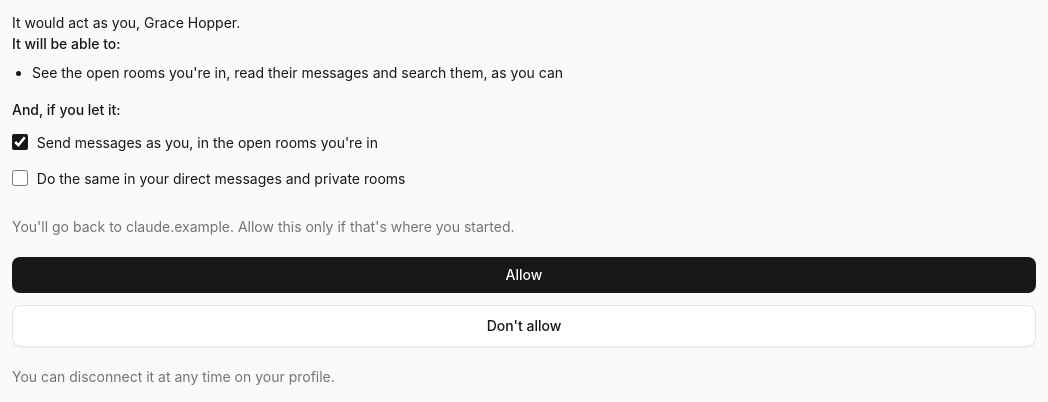
Test case: The page that asks whether to connect an AI app › lets an app into your direct messages and private rooms once you tick their box, and out again once you clear it
Click the checkbox labelled "Do the same in your direct messages and private rooms" at (20, 178), box [12,170,28,186]
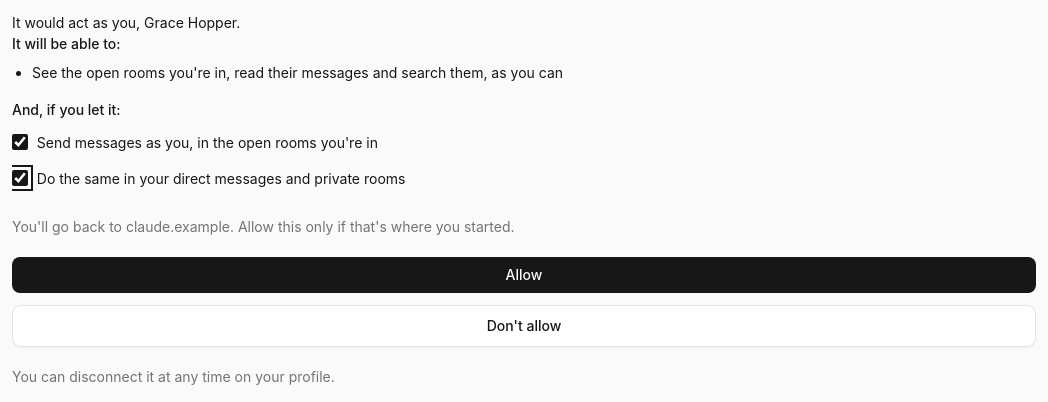
Expected: the checkbox labelled "Do the same in your direct messages and private rooms" is checked, [12,170,28,186]
Click the checkbox labelled "Send messages as you, in the open rooms you're in" at (20, 142), box [12,134,28,150]
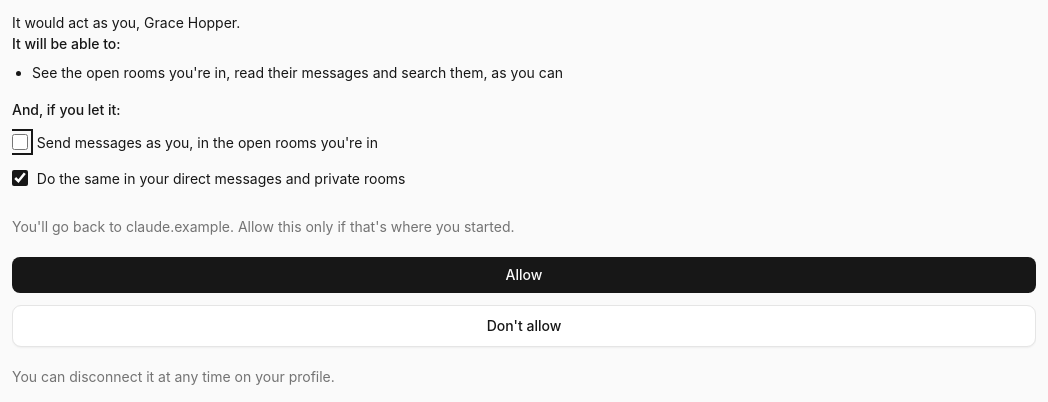
Click the checkbox labelled "Do the same in your direct messages and private rooms" at (20, 178), box [12,170,28,186]
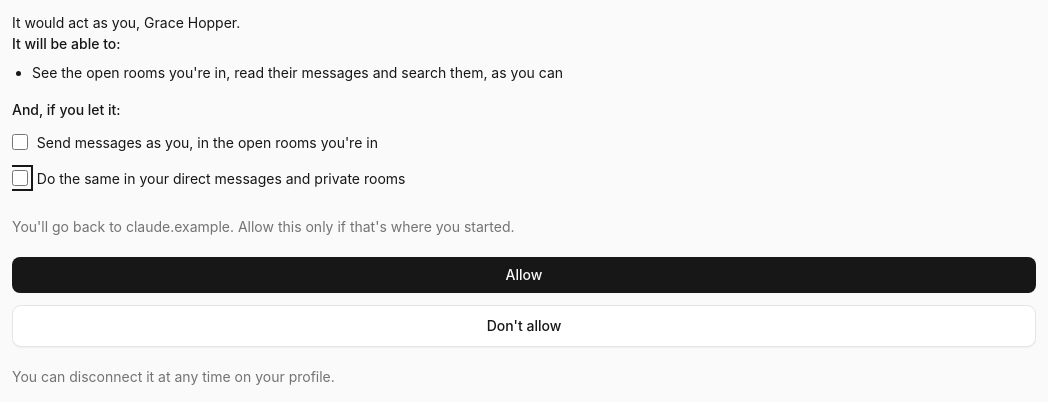
Expected: the checkbox labelled "Do the same in your direct messages and private rooms" is not checked
Click the checkbox labelled "Do the same in your direct messages and private rooms" at (20, 178), box [12,170,28,186]
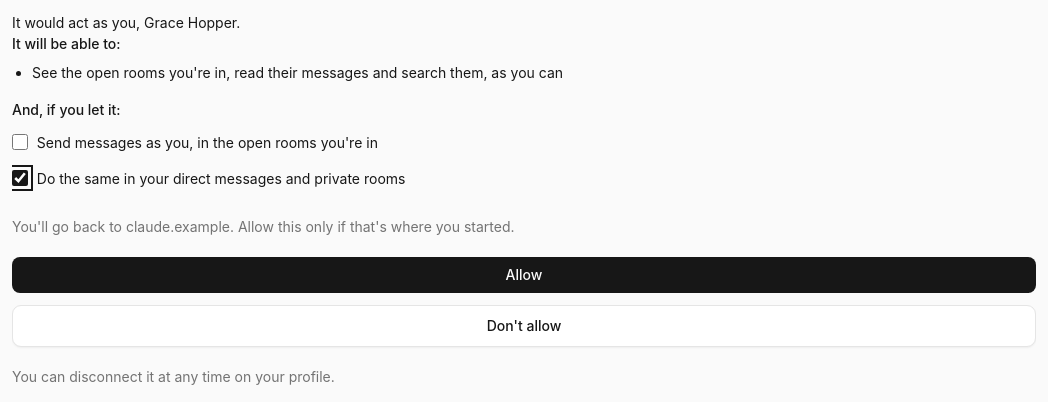
Click the button "Allow" at (524, 275), box [12,257,1036,293]
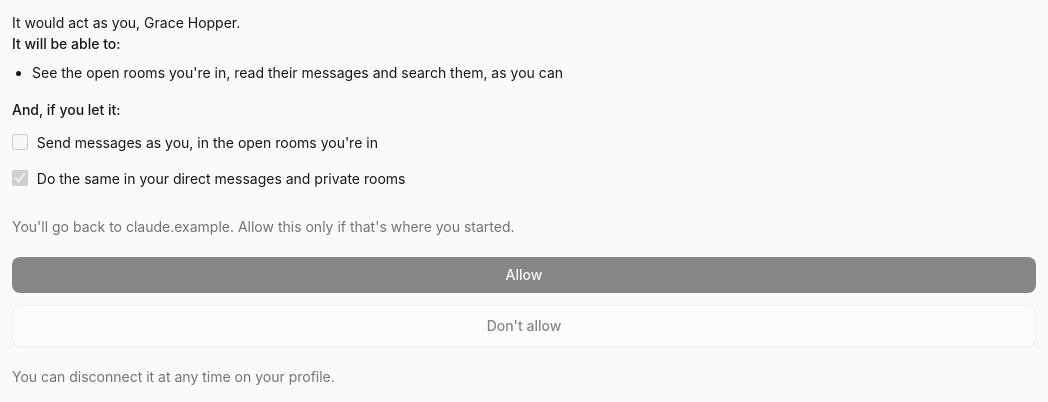
Expected: the checkbox labelled "Do the same in your direct messages and private rooms" is disabled, [12,170,28,186]
